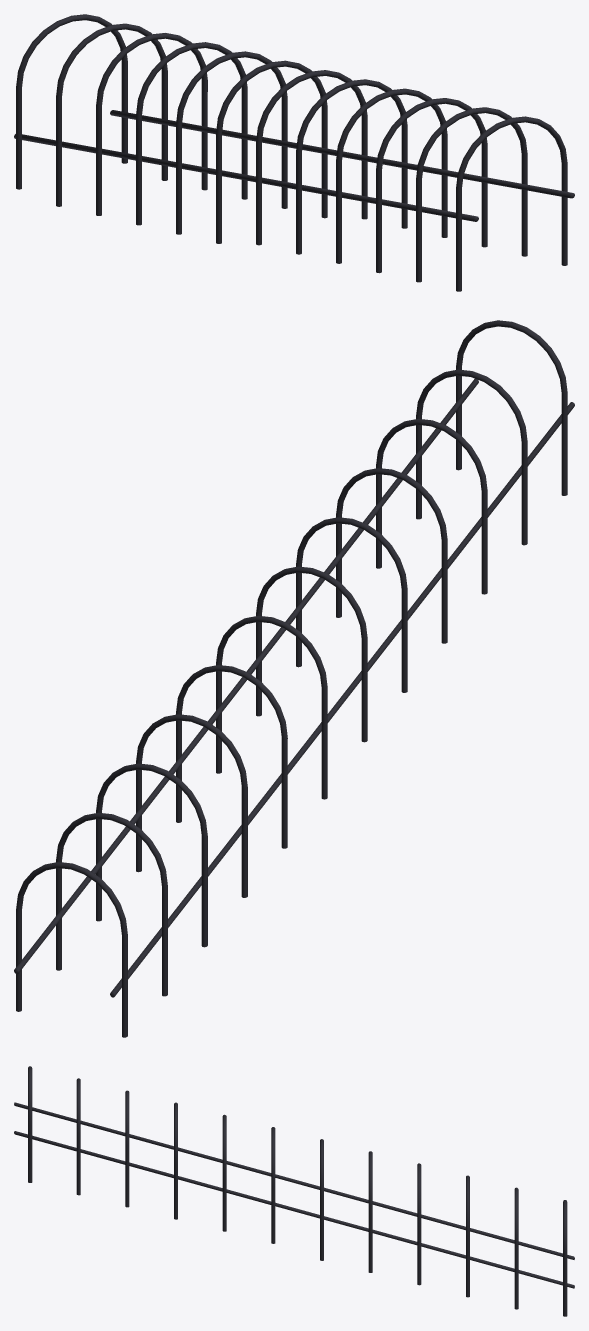
Rendered from Slopewalkway.fbx.
3 renders of one model, top to bottom at view 1: azimuth 30°, elevation 25°; view 2: azimuth 150°, elevation 25°; view 3: azimuth 270°, elevation 25°, orthographic. The views are drawn at different scales.
Visible parts, largest first — view 1: Slope walkway; view 2: Slope walkway; view 3: Slope walkway.
Boxes of the visible parts, bbox=[...] form: Slope walkway: bbox=[14, 14, 574, 291]; Slope walkway: bbox=[14, 320, 574, 1037]; Slope walkway: bbox=[14, 1066, 574, 1316].
Size of the model in its own units: 8.15 by 26.62 by 58.66.
1 material, 1 textured.
